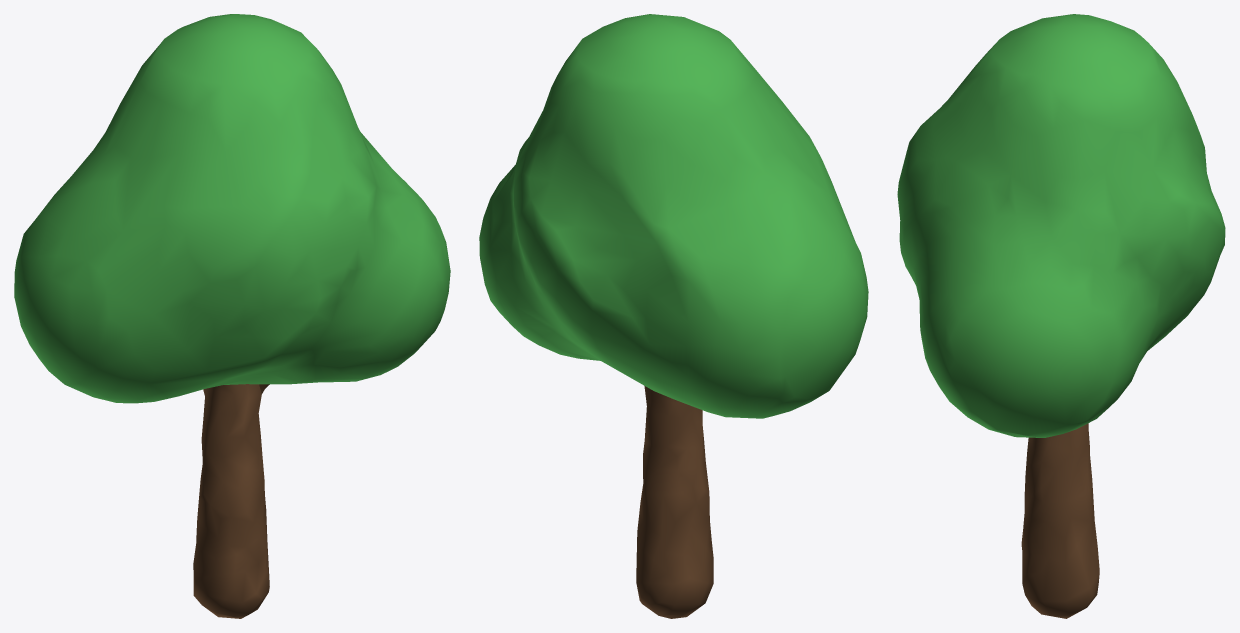
Rendered from tree.lod1.glb.
3 renders of one model, left to right at view 1: azimuth 30°, elevation 25°; view 2: azimuth 150°, elevation 25°; view 3: azimuth 270°, elevation 25°, orthographic.
Visible parts, largest first — view 1: root; view 2: root; view 3: root.
Part boxes in pixels (box(x1,y1,x2,y2)): root: box(14, 14, 450, 618); root: box(479, 14, 868, 618); root: box(897, 14, 1225, 618).
Size of the model in its own units: 1.67 by 2.45 by 1.22.
